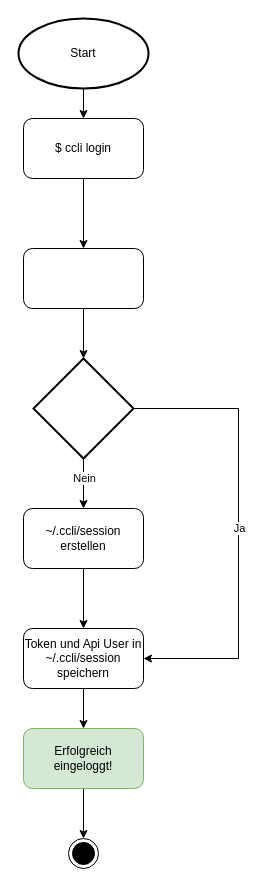
Image size: 264x886. Some labels were removed from this diagram. Each missing label, with the box of its shape:
Token zu Nutzername und Login Token extrahieren: (22, 248, 144, 308)
~/.ccli/session vorhanden?: (32, 357, 134, 459)
